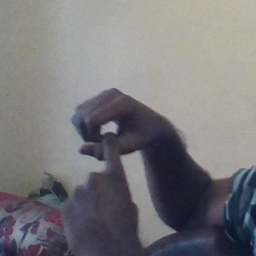Q: (59, 87, 149, 229)
